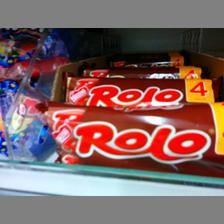Schokolade: (40, 95, 222, 169), (61, 69, 219, 111)
